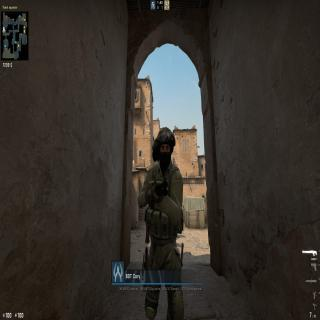CT-Head: (151, 123, 177, 169)
